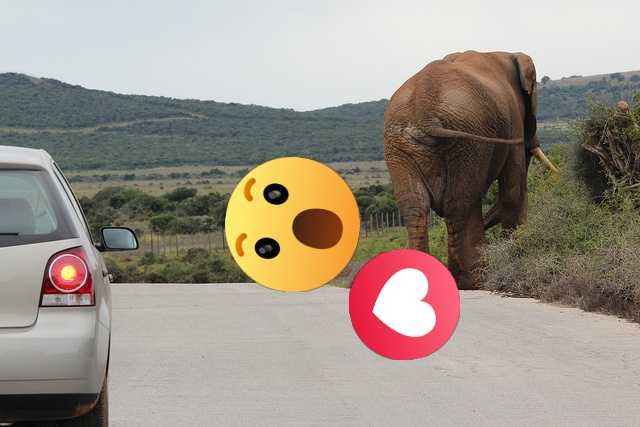love: (349, 249, 460, 360)
wow: (225, 157, 360, 292)
